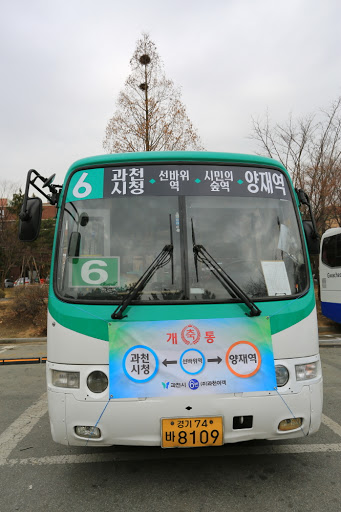bnum: (73, 257, 116, 286)
